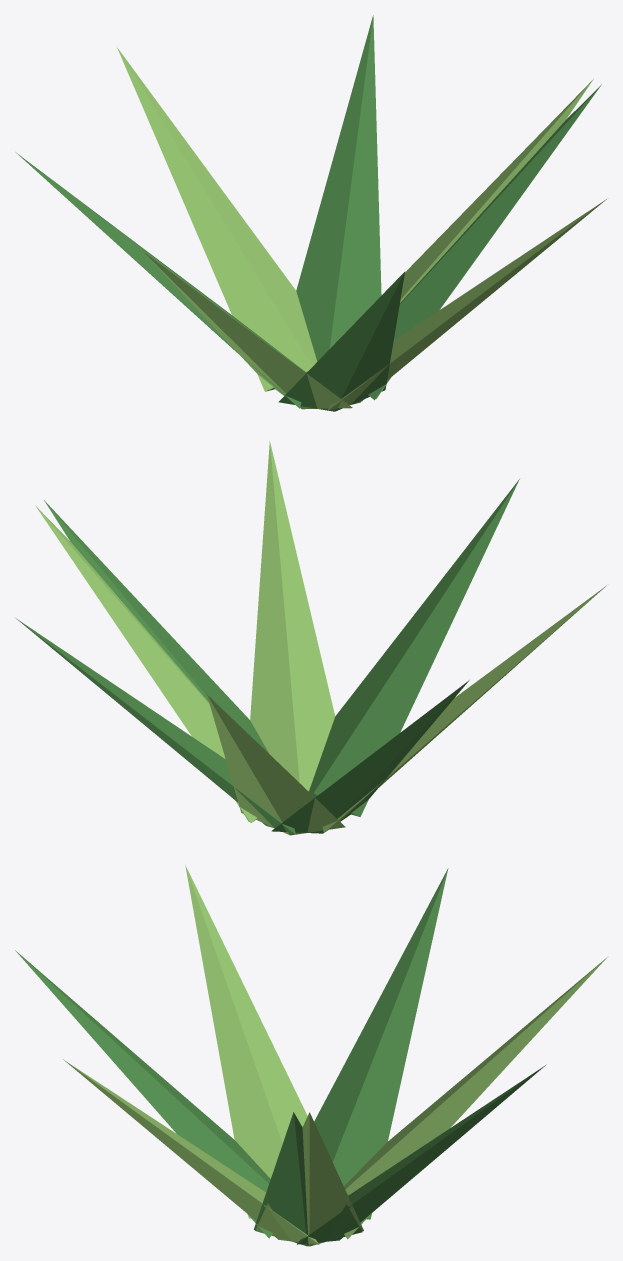
File: fern-clump.glb
3 views of the same model, one above another, from view 1: azimuth 30°, elevation 25°; view 2: azimuth 150°, elevation 25°; view 3: azimuth 270°, elevation 25° (orthographic).
Visible parts, largest first — view 1: forest-fern-clump; view 2: forest-fern-clump; view 3: forest-fern-clump.
Boxes of the visible parts, box(x1,y1,x2,y2) form: forest-fern-clump: box(15, 15, 606, 411); forest-fern-clump: box(16, 441, 606, 835); forest-fern-clump: box(15, 865, 608, 1246).
Bounding box in the file's own units: 0.6437 × 0.3004 × 0.654.
